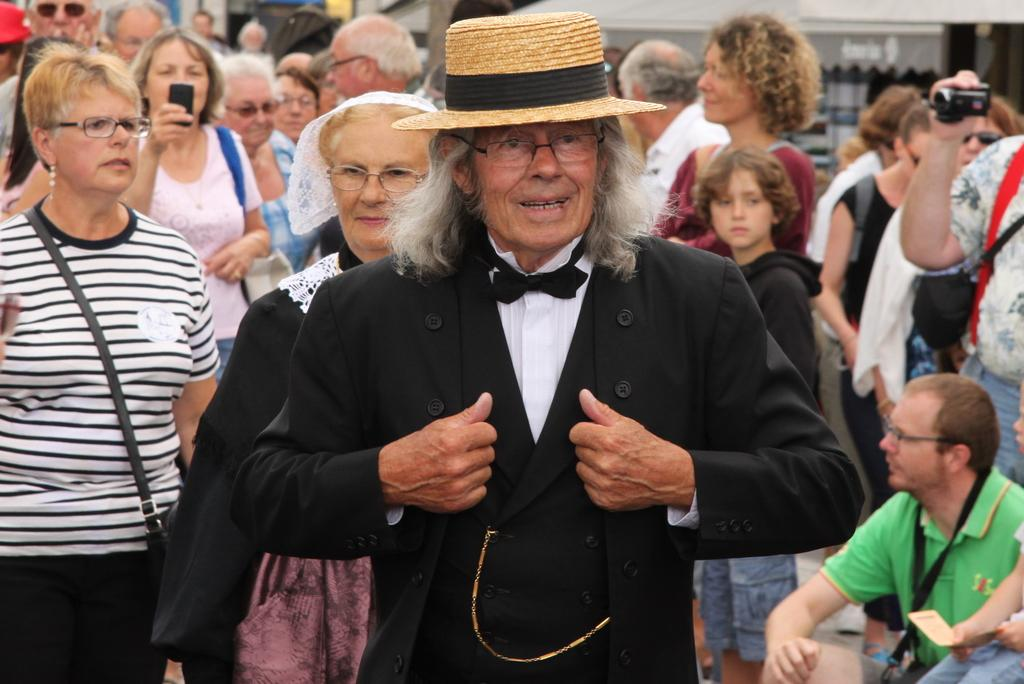Hat: (388, 9, 666, 132)
